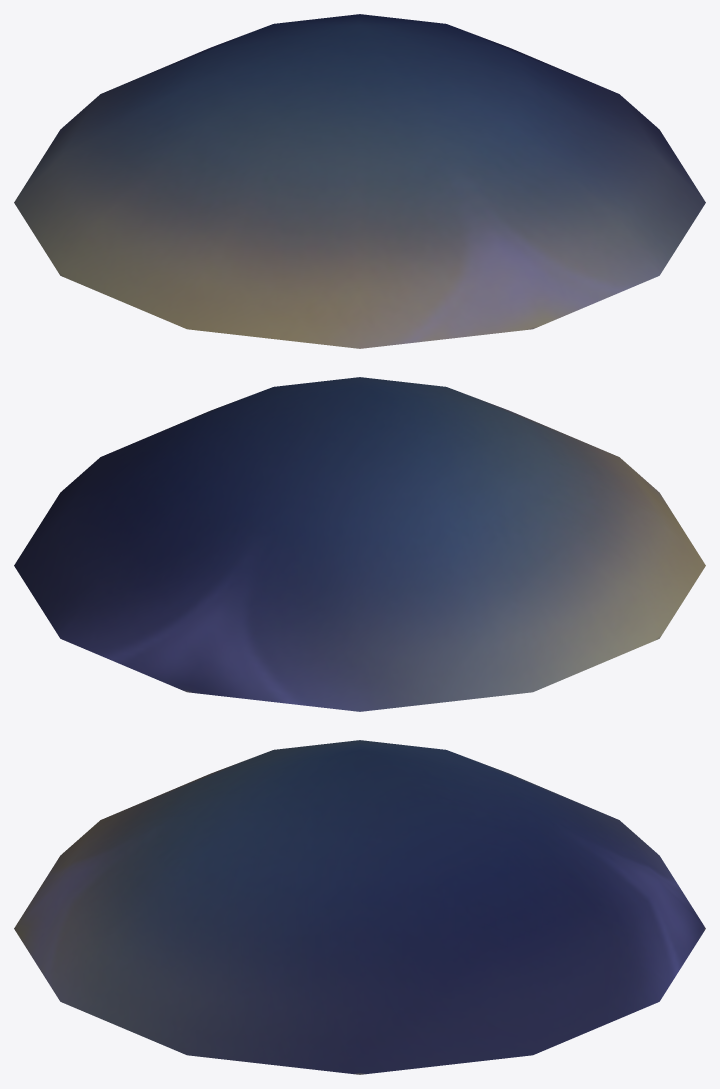
Rendered from Dusk.obj.
3 views of the same model, one above another, from view 1: azimuth 30°, elevation 25°; view 2: azimuth 150°, elevation 25°; view 3: azimuth 270°, elevation 25° (orthographic).
Visible parts, largest first — view 1: _00_sky; view 2: _00_sky; view 3: _00_sky.
Part boxes in pixels (x1,y1,x2,y2): _00_sky: (14, 14, 705, 348); _00_sky: (14, 377, 705, 711); _00_sky: (14, 740, 705, 1074).
Bounding box in the file's own units: 1.11e+07 × 3141677 × 1.11e+07.
